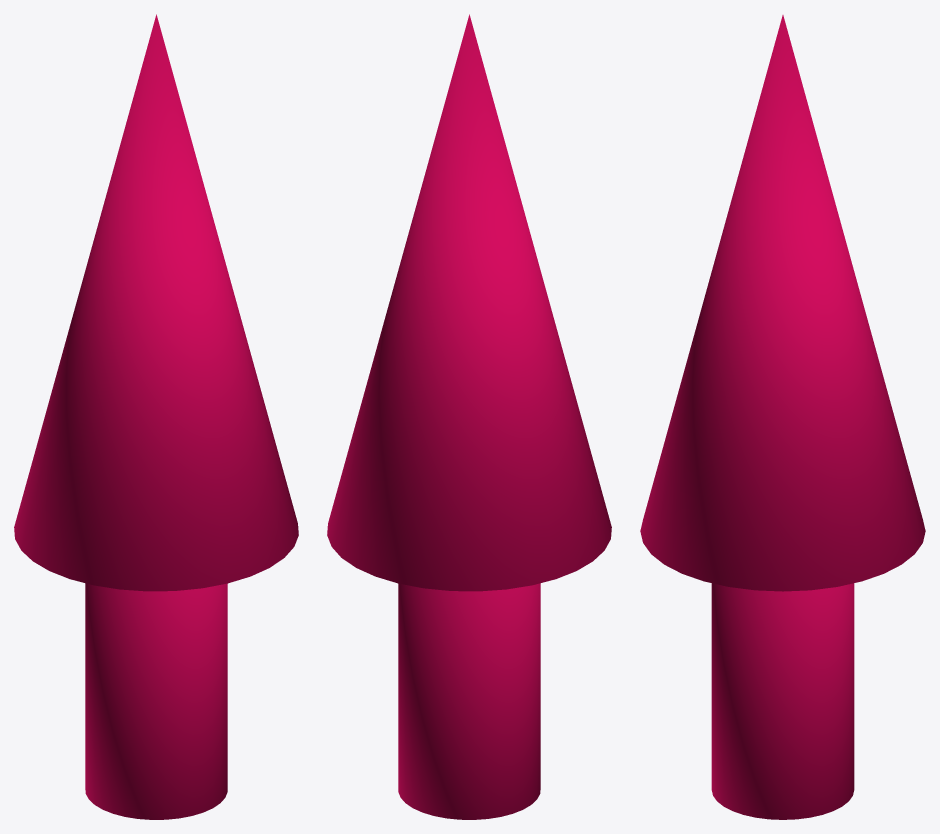
File: Arrow.fbx
3 renders of one model, left to right at view 1: azimuth 30°, elevation 25°; view 2: azimuth 150°, elevation 25°; view 3: azimuth 270°, elevation 25°, orthographic.
Parts seen in each view (by area): view 1: Cone, Cylinder; view 2: Cone, Cylinder; view 3: Cone, Cylinder.
Boxes of the visible parts, x1,y1,x2,y2 form: Cone: (14,14,298,591); Cylinder: (85,583,227,819); Cone: (327,14,611,591); Cylinder: (398,583,540,819); Cone: (640,15,925,591); Cylinder: (711,583,854,819).
Size of the model in its own units: 2 by 6 by 2.
